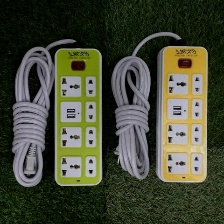three_eye_plug: (151, 43, 209, 184), (51, 45, 105, 189)
